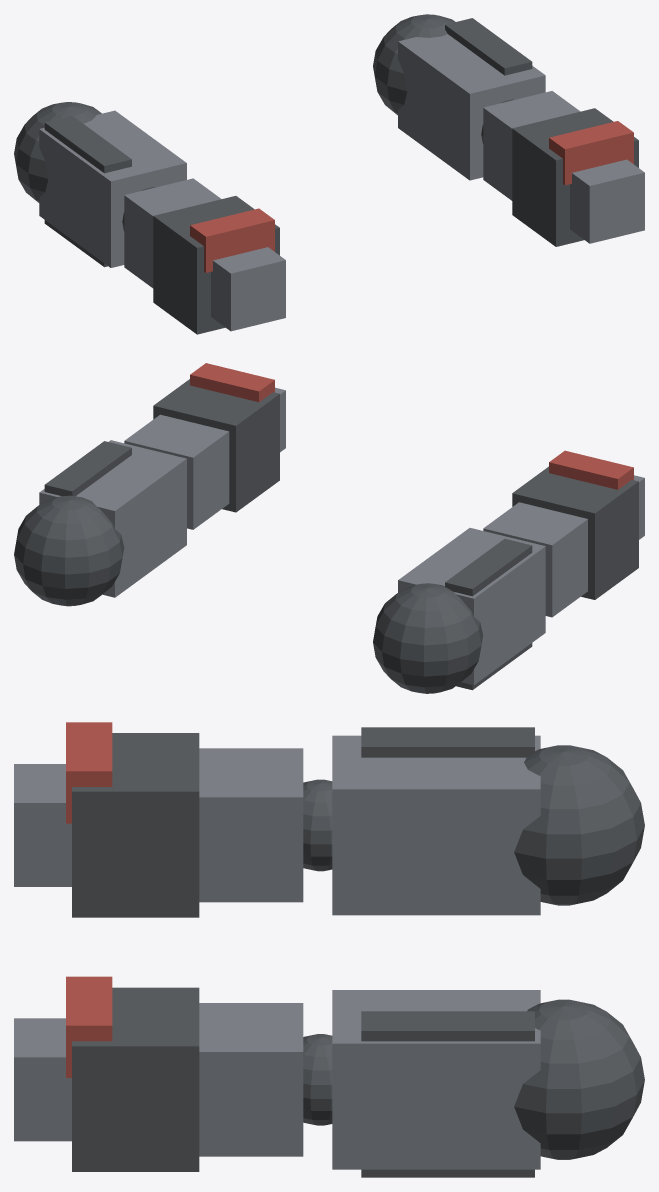
Rendered from arms-bruiser.glb.
3 renders of one model, top to bottom at view 1: azimuth 30°, elevation 25°; view 2: azimuth 150°, elevation 25°; view 3: azimuth 270°, elevation 25°, orthographic. The views are drawn at different scales.
Visible parts, largest first — view 1: upper_1, upper_-1, gauntlet_-1, gauntlet_1, fist_1, fist_-1, fore_-1, fore_1, knuckle_-1, knuckle_1, shoulder_1, shoulder_-1 (+2 smaller); view 2: upper_1, shoulder_1, shoulder_-1, upper_-1, gauntlet_1, gauntlet_-1, fore_-1, fore_1, uppershell_-1, uppershell_1, knuckle_1, knuckle_-1; view 3: upper_-1, upper_1, gauntlet_-1, gauntlet_1, fore_-1, fore_1, shoulder_-1, shoulder_1, uppershell_1, fist_1, fist_-1, uppershell_-1 (+4 smaller).
Part boxes in pixels (<box>): upper_1: <box>398,34,545,180</box>; upper_-1: <box>39,110,186,267</box>; gauntlet_-1: <box>153,196,279,334</box>; gauntlet_1: <box>512,108,638,246</box>; fist_1: <box>570,159,644,243</box>; fist_-1: <box>211,247,285,331</box>; fore_-1: <box>124,178,221,288</box>; fore_1: <box>483,91,580,200</box>; knuckle_-1: <box>190,208,274,272</box>; knuckle_1: <box>549,121,633,185</box>; shoulder_1: <box>373,14,455,115</box>; shoulder_-1: <box>14,102,101,202</box>; upper_1: <box>39,440,186,597</box>; shoulder_1: <box>14,495,124,606</box>; shoulder_-1: <box>373,583,483,693</box>; upper_-1: <box>398,528,545,685</box>; gauntlet_1: <box>153,379,279,512</box>; gauntlet_-1: <box>512,466,638,599</box>; fore_-1: <box>483,502,587,617</box>; fore_1: <box>124,414,229,529</box>; uppershell_-1: <box>445,539,532,690</box>; uppershell_1: <box>44,441,131,496</box>; knuckle_1: <box>190,363,274,402</box>; knuckle_-1: <box>549,450,633,489</box>; upper_-1: <box>332,735,540,915</box>; upper_1: <box>332,990,540,1169</box>; gauntlet_-1: <box>72,733,199,917</box>; gauntlet_1: <box>72,987,199,1171</box>; fore_-1: <box>199,748,303,902</box>; fore_1: <box>199,1003,303,1156</box>; shoulder_-1: <box>514,745,644,905</box>; shoulder_1: <box>514,999,644,1159</box>; uppershell_1: <box>361,1011,534,1177</box>; fist_1: <box>14,1018,71,1141</box>; fist_-1: <box>14,764,71,886</box>; uppershell_-1: <box>361,727,534,757</box>.
Size of the model in its own units: 1.31 by 0.29 by 1.09.
